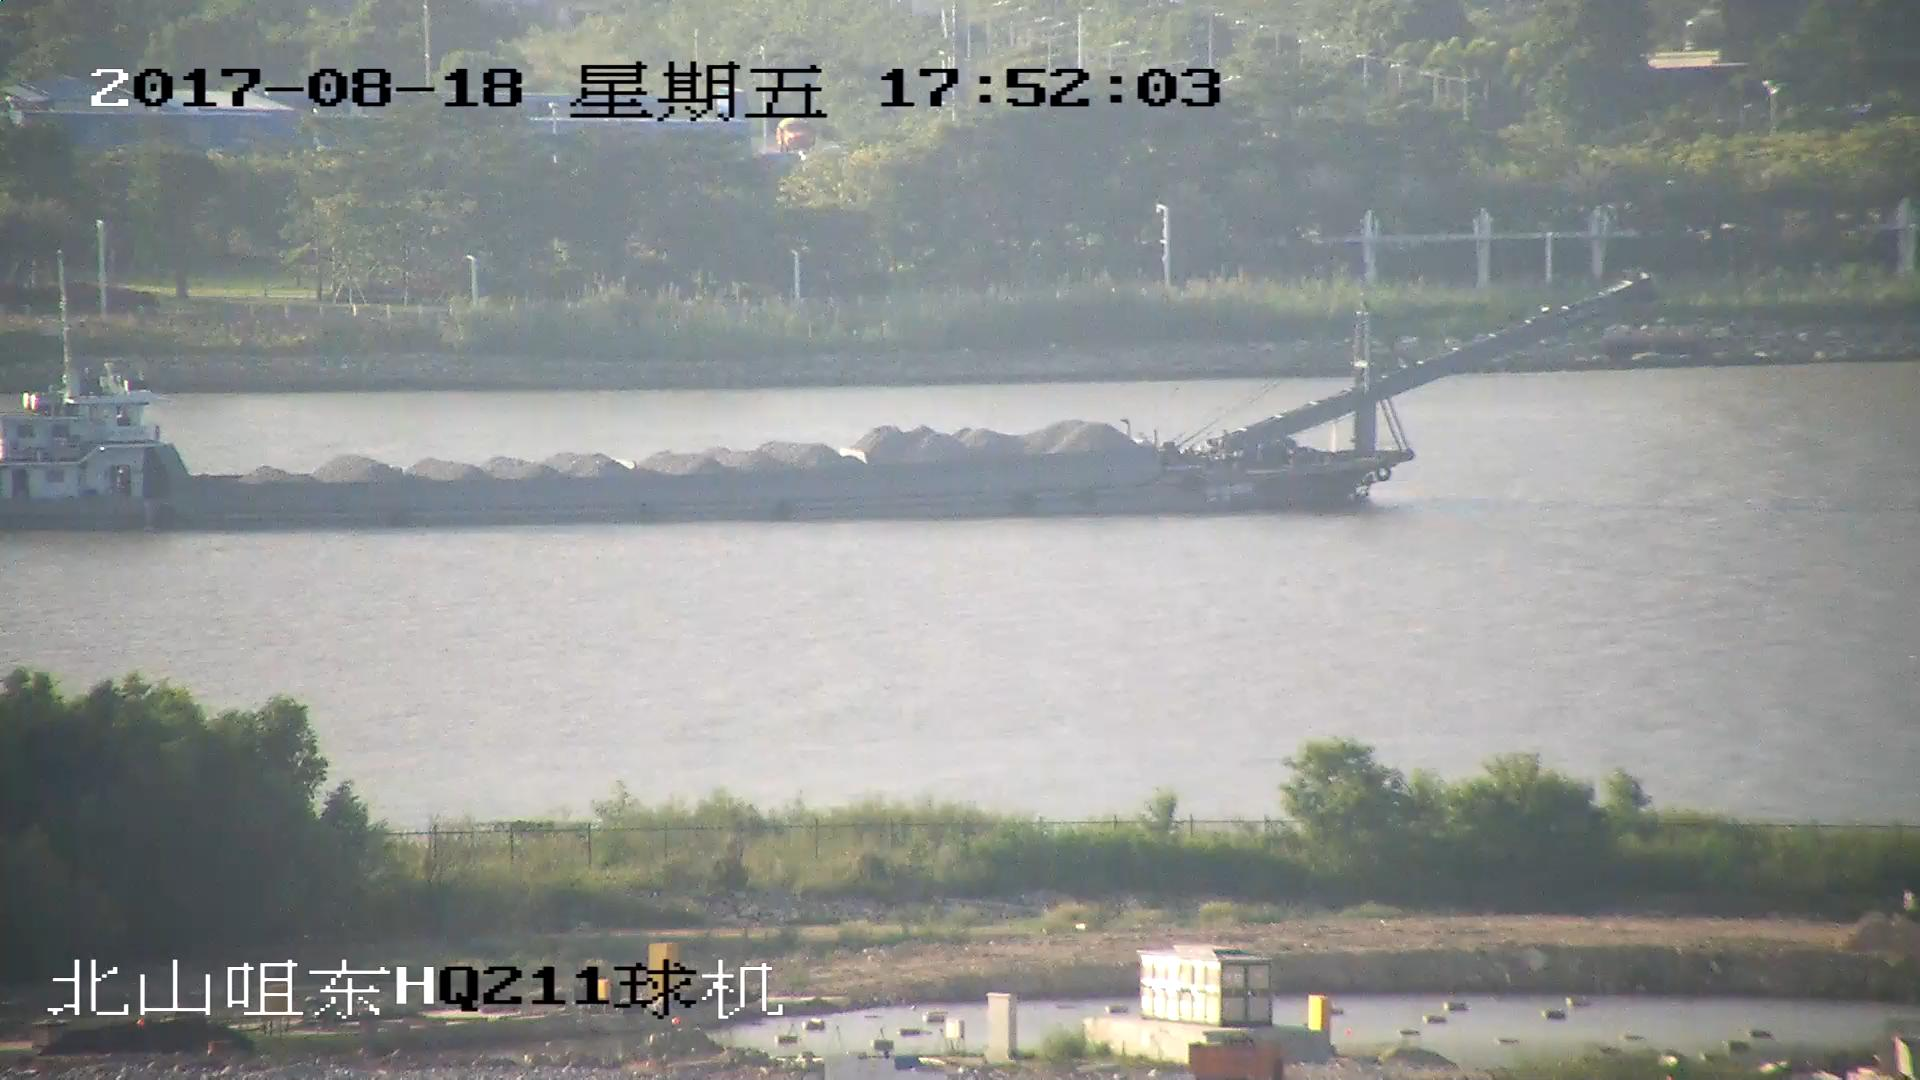ore carrier: (1, 275, 1651, 536)
